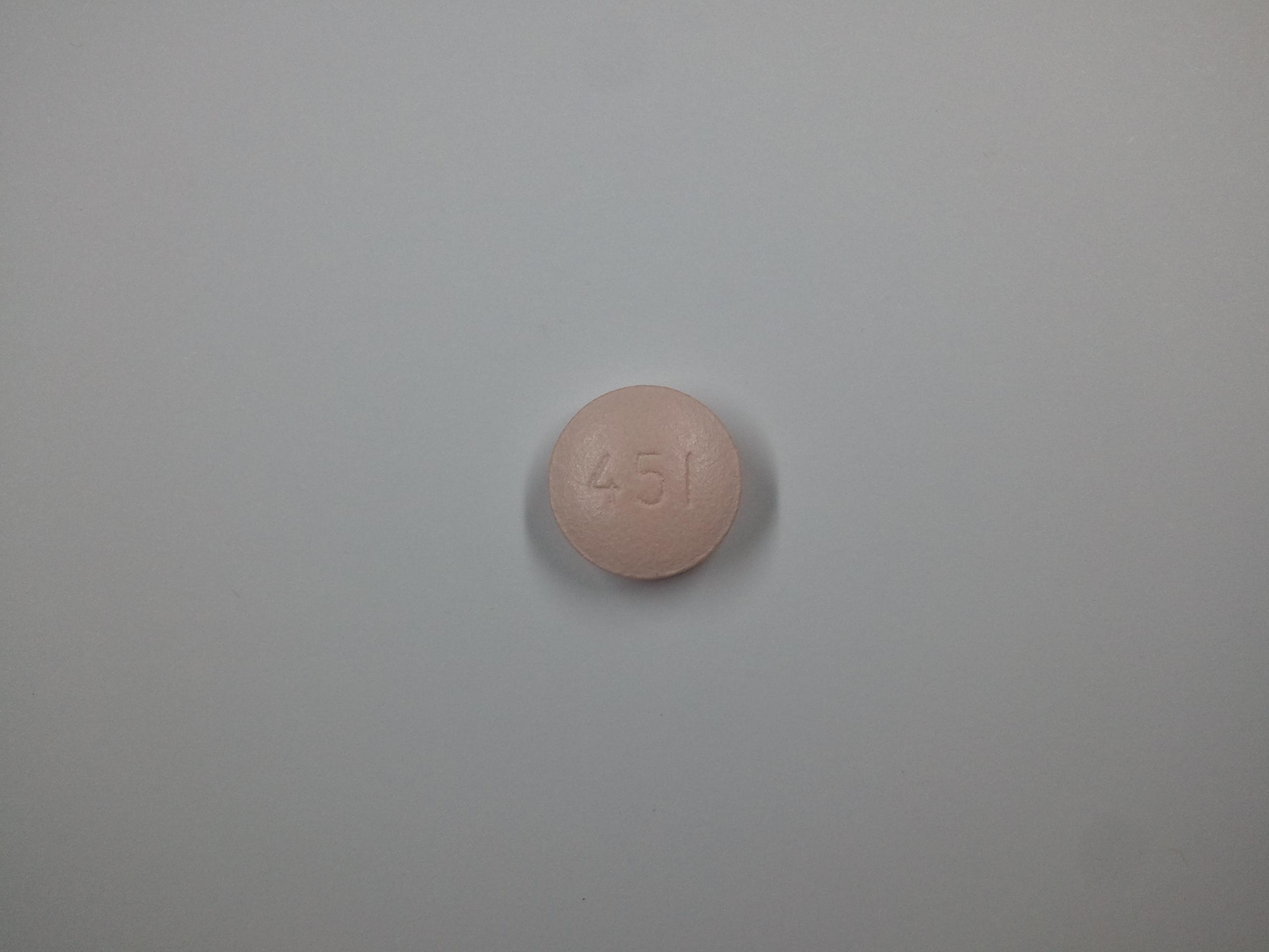Pill: (539, 374, 752, 588)
